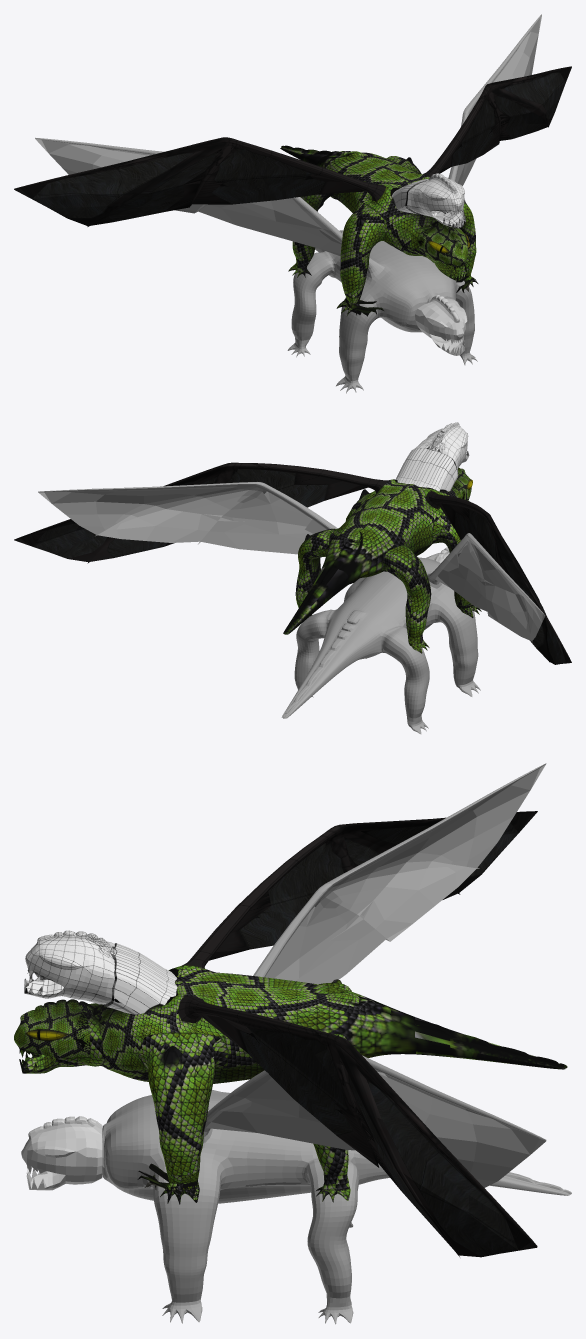
The model's file is monster_000031.obj.
3 views of the same model, one above another, from view 1: azimuth 30°, elevation 25°; view 2: azimuth 150°, elevation 25°; view 3: azimuth 270°, elevation 25° (orthographic). The views are drawn at different scales.
Parts seen in each view (by area): view 1: body_Cube, bodyCopy_Cube.003, secondHead_Cube.002, headcopy_Cube.006; view 2: bodyCopy_Cube.003, body_Cube, secondHead_Cube.002; view 3: body_Cube, bodyCopy_Cube.003, secondHead_Cube.002, headcopy_Cube.006.
Boxes of the visible parts, x1,y1,x2,y2 form: body_Cube: (14, 66, 571, 316); bodyCopy_Cube.003: (35, 14, 541, 393); secondHead_Cube.002: (391, 173, 465, 228); headcopy_Cube.006: (415, 295, 467, 355); bodyCopy_Cube.003: (38, 482, 544, 734); body_Cube: (14, 462, 571, 664); secondHead_Cube.002: (395, 422, 469, 491); body_Cube: (14, 811, 567, 1257); bodyCopy_Cube.003: (102, 763, 571, 1324); secondHead_Cube.002: (24, 930, 177, 1014); headcopy_Cube.006: (21, 1116, 102, 1190).
Bounding box in the file's own units: 9.77 × 3.89 × 5.56.
